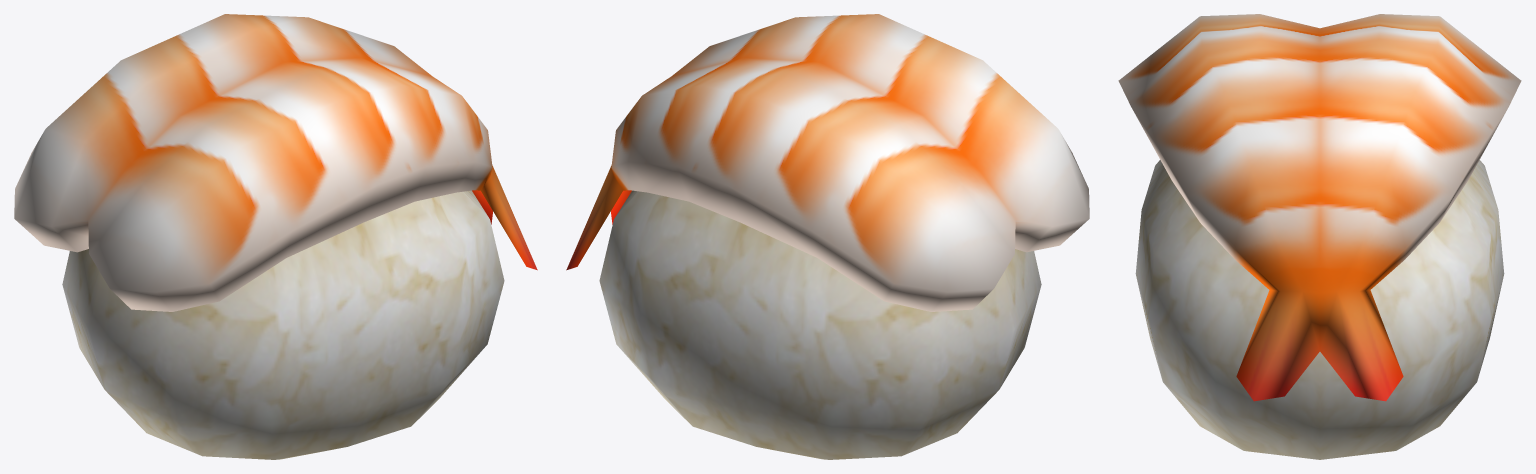
The model's file is ebi.fbx.
The picture shows the model from 3 angles, left to right: view 1: azimuth 30°, elevation 25°; view 2: azimuth 150°, elevation 25°; view 3: azimuth 270°, elevation 25°; orthographic projection.
Parts seen in each view (by area): view 1: polySurface16, polySurface13; view 2: polySurface16, polySurface13; view 3: polySurface16, polySurface13.
Boxes of the visible parts, left/top/right/bottom form: polySurface16: left=14, top=14, right=537, bottom=311; polySurface13: left=62, top=190, right=504, bottom=459; polySurface16: left=566, top=14, right=1089, bottom=311; polySurface13: left=599, top=190, right=1041, bottom=459; polySurface16: left=1118, top=14, right=1521, bottom=401; polySurface13: left=1135, top=160, right=1504, bottom=459.
Bounding box in the file's own units: 1.71 × 1.39 × 1.32.
Materials: 1 (1 with a texture image).
